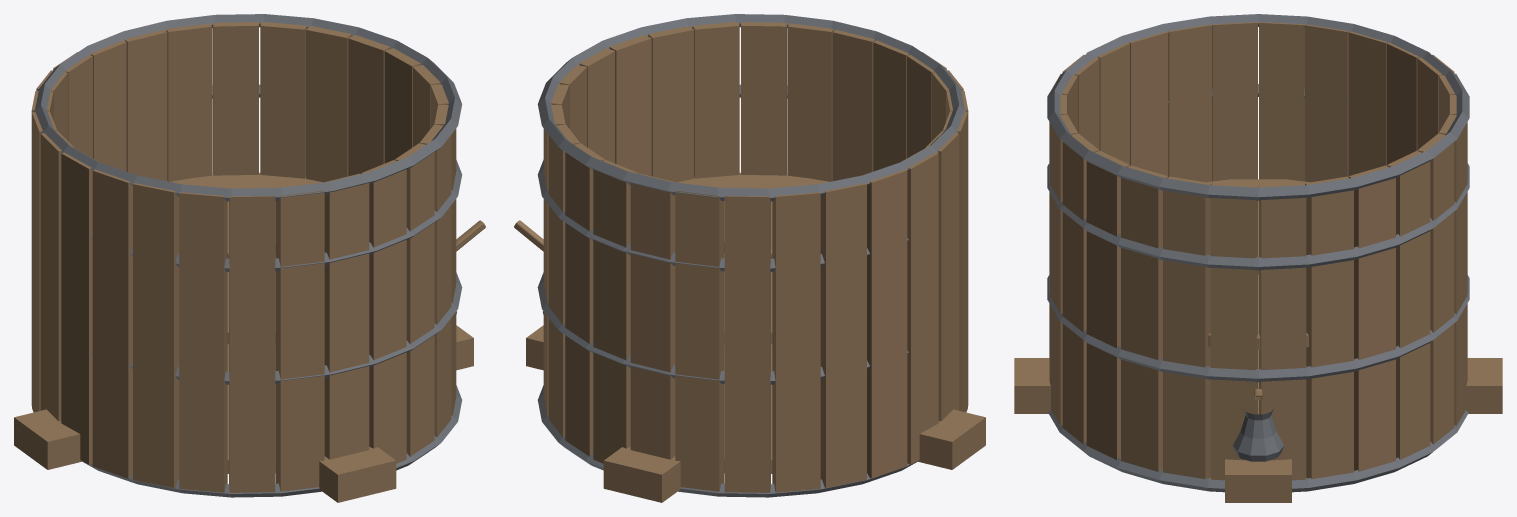
File: brewhouse_tun.glb
The picture shows the model from 3 angles, left to right: view 1: azimuth 30°, elevation 25°; view 2: azimuth 150°, elevation 25°; view 3: azimuth 270°, elevation 25°; orthographic projection.
Visible parts, largest first — view 1: 205-brewhouse-tun/0, 205-brewhouse-tun/1, 205-brewhouse-tun/cover-tun; view 2: 205-brewhouse-tun/0, 205-brewhouse-tun/1, 205-brewhouse-tun/cover-tun; view 3: 205-brewhouse-tun/0, 205-brewhouse-tun/1, 205-brewhouse-tun/cover-tun.
Part boxes in pixels (box(x1,y1,x2,y2)): 205-brewhouse-tun/0: box(14, 22, 485, 502); 205-brewhouse-tun/1: box(33, 14, 462, 497); 205-brewhouse-tun/cover-tun: box(170, 172, 322, 344); 205-brewhouse-tun/0: box(514, 22, 985, 502); 205-brewhouse-tun/1: box(537, 14, 966, 497); 205-brewhouse-tun/cover-tun: box(677, 172, 829, 344); 205-brewhouse-tun/0: box(1014, 22, 1502, 502); 205-brewhouse-tun/1: box(1047, 14, 1469, 492); 205-brewhouse-tun/cover-tun: box(1207, 179, 1309, 349).
Size of the model in its own units: 2 by 1.3 by 1.88.
